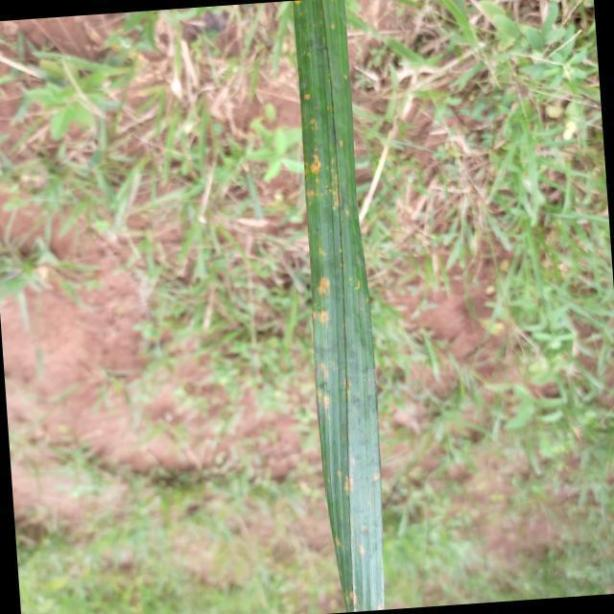Kalium: (294, 0, 382, 614)
